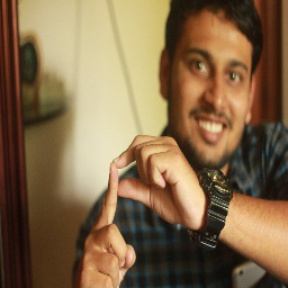P: (76, 130, 202, 288)
